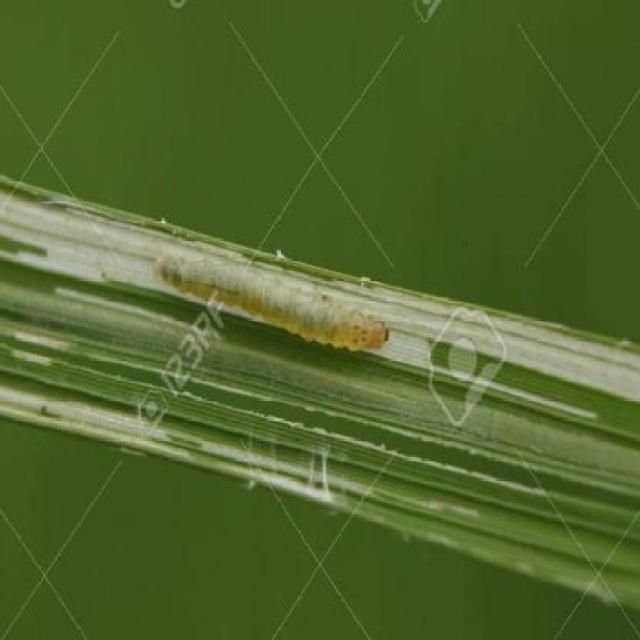leaf-folder: (134, 202, 398, 372)
